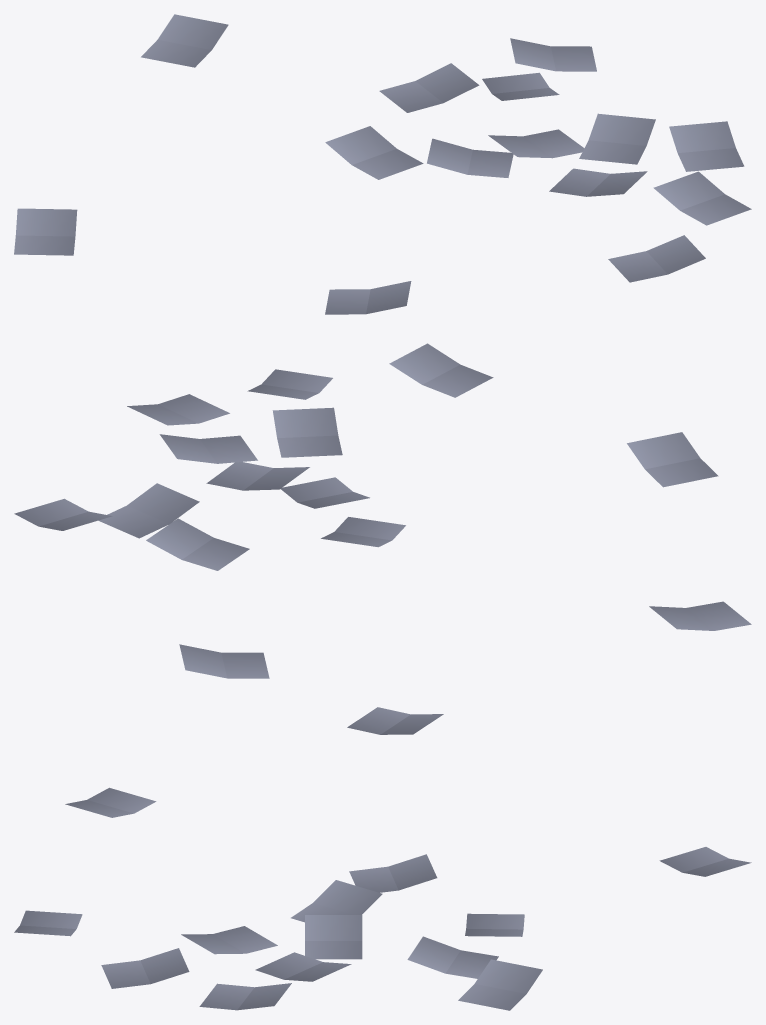
Rendered from Papers2.fbx.
3 renders of one model, top to bottom at view 1: azimuth 30°, elevation 25°; view 2: azimuth 150°, elevation 25°; view 3: azimuth 270°, elevation 25°, orthographic. The views are drawn at different scales.
Parts seen in each view (by area): view 1: Плоскость.003; view 2: Плоскость.003; view 3: Плоскость.003.
Boxes of the visible parts, x1,y1,x2,y2 form: Плоскость.003: [14, 14, 751, 314]; Плоскость.003: [14, 343, 751, 678]; Плоскость.003: [14, 707, 751, 1010].
Bounding box in the file's own units: 232 × 3.84 × 233.
